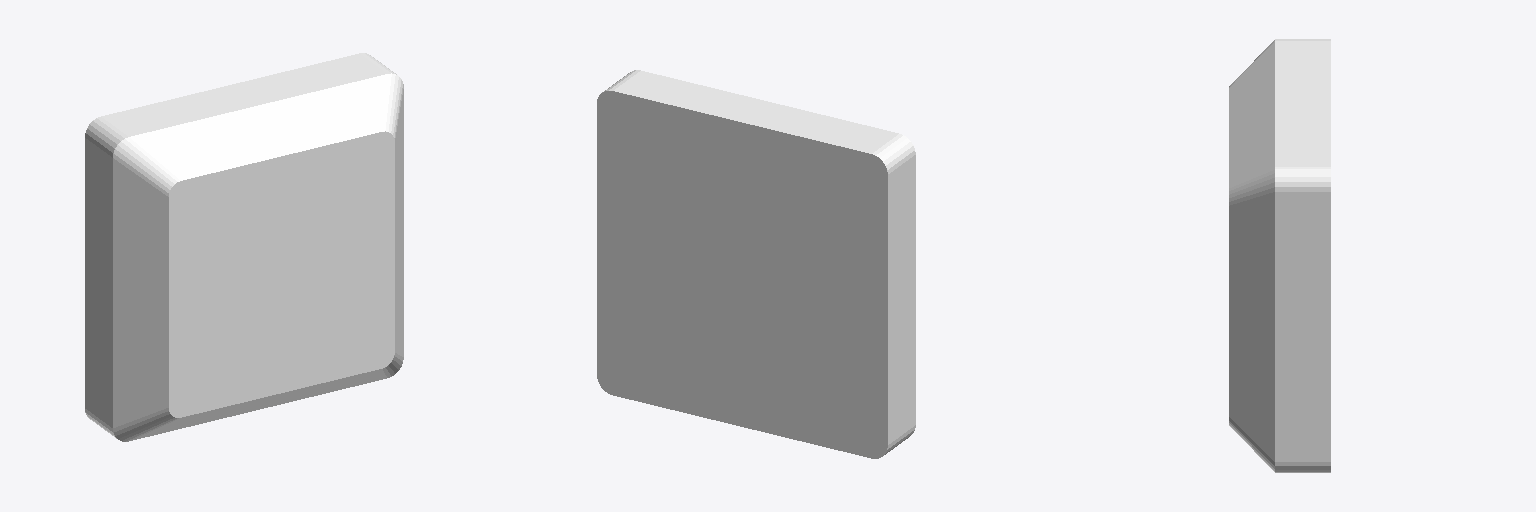
The model's file is original-51.obj.
The picture shows the model from 3 angles: view 1: azimuth 30°, elevation 25°; view 2: azimuth 150°, elevation 25°; view 3: azimuth 270°, elevation 25°; orthographic projection.
Parts seen in each view (by area): view 1: group_22/ID273#ID273; view 2: group_22/ID273#ID273; view 3: group_22/ID273#ID273.
Boxes of the visible parts, x1,y1,x2,y2 form: group_22/ID273#ID273: [85, 53, 403, 441]; group_22/ID273#ID273: [597, 70, 915, 458]; group_22/ID273#ID273: [1229, 39, 1330, 472].
Size of the model in its own units: 0.0271 by 0.0271 by 0.0083.